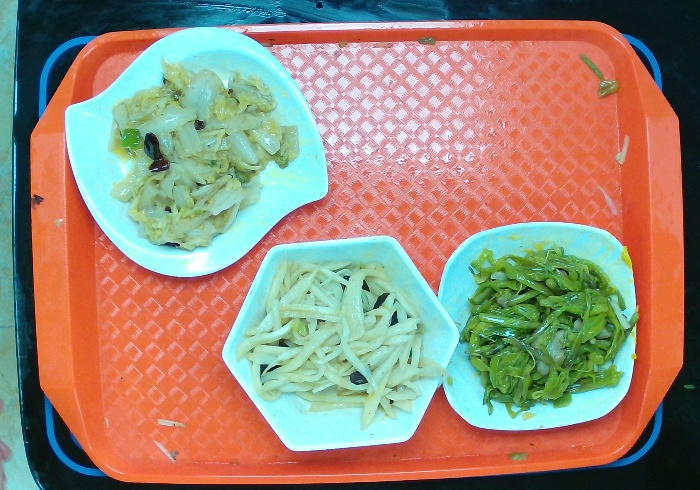RJxy-Liu_Jiao_Wan: (219, 233, 461, 452)
RJxy-Shuang_Jiao_Pan: (62, 25, 331, 280)
RJxy-Si_Fang_Wan: (435, 218, 639, 433)
